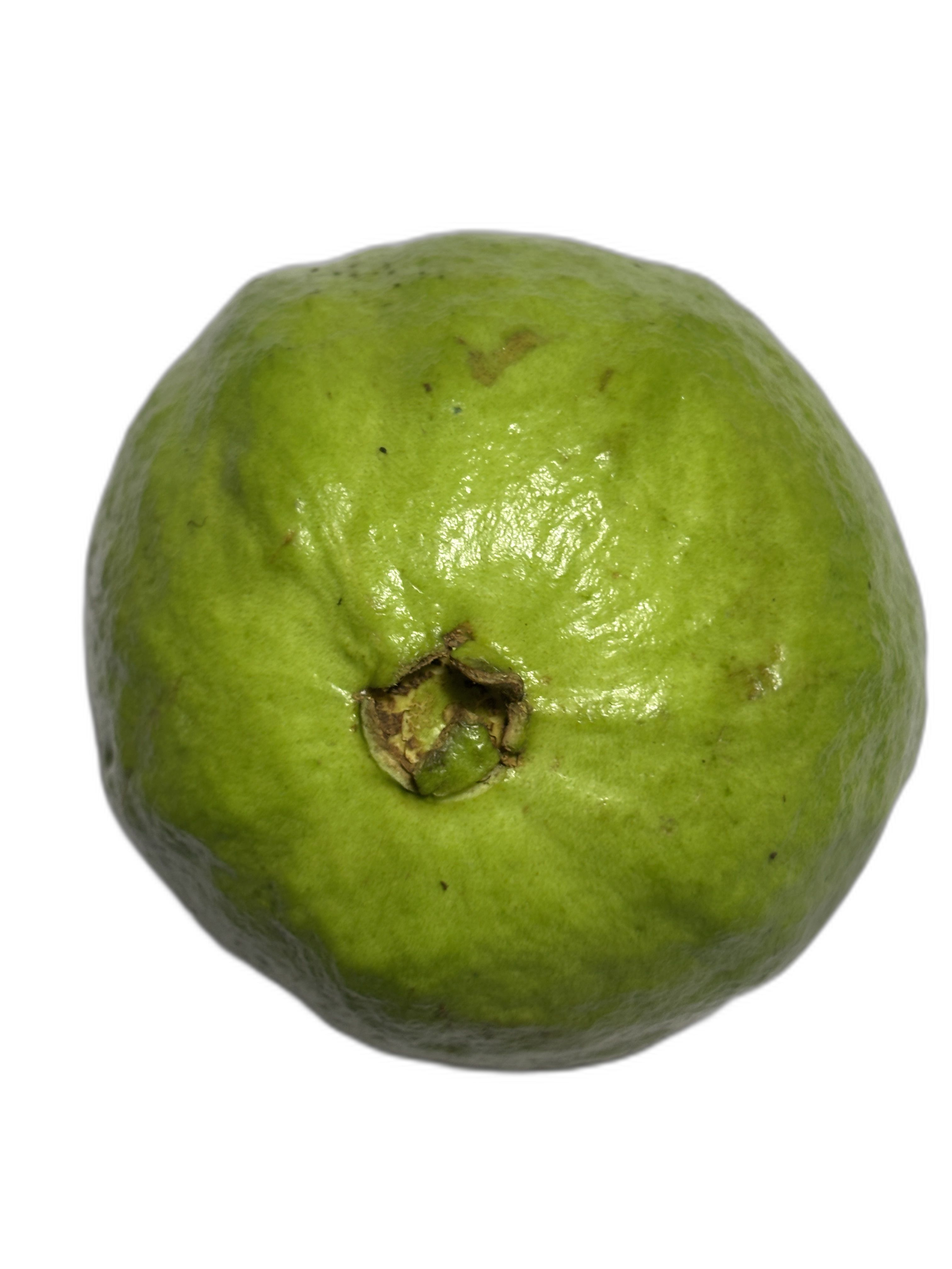guava: (65, 217, 774, 1097)
